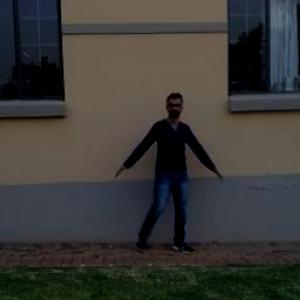land: (108, 97, 219, 267)
